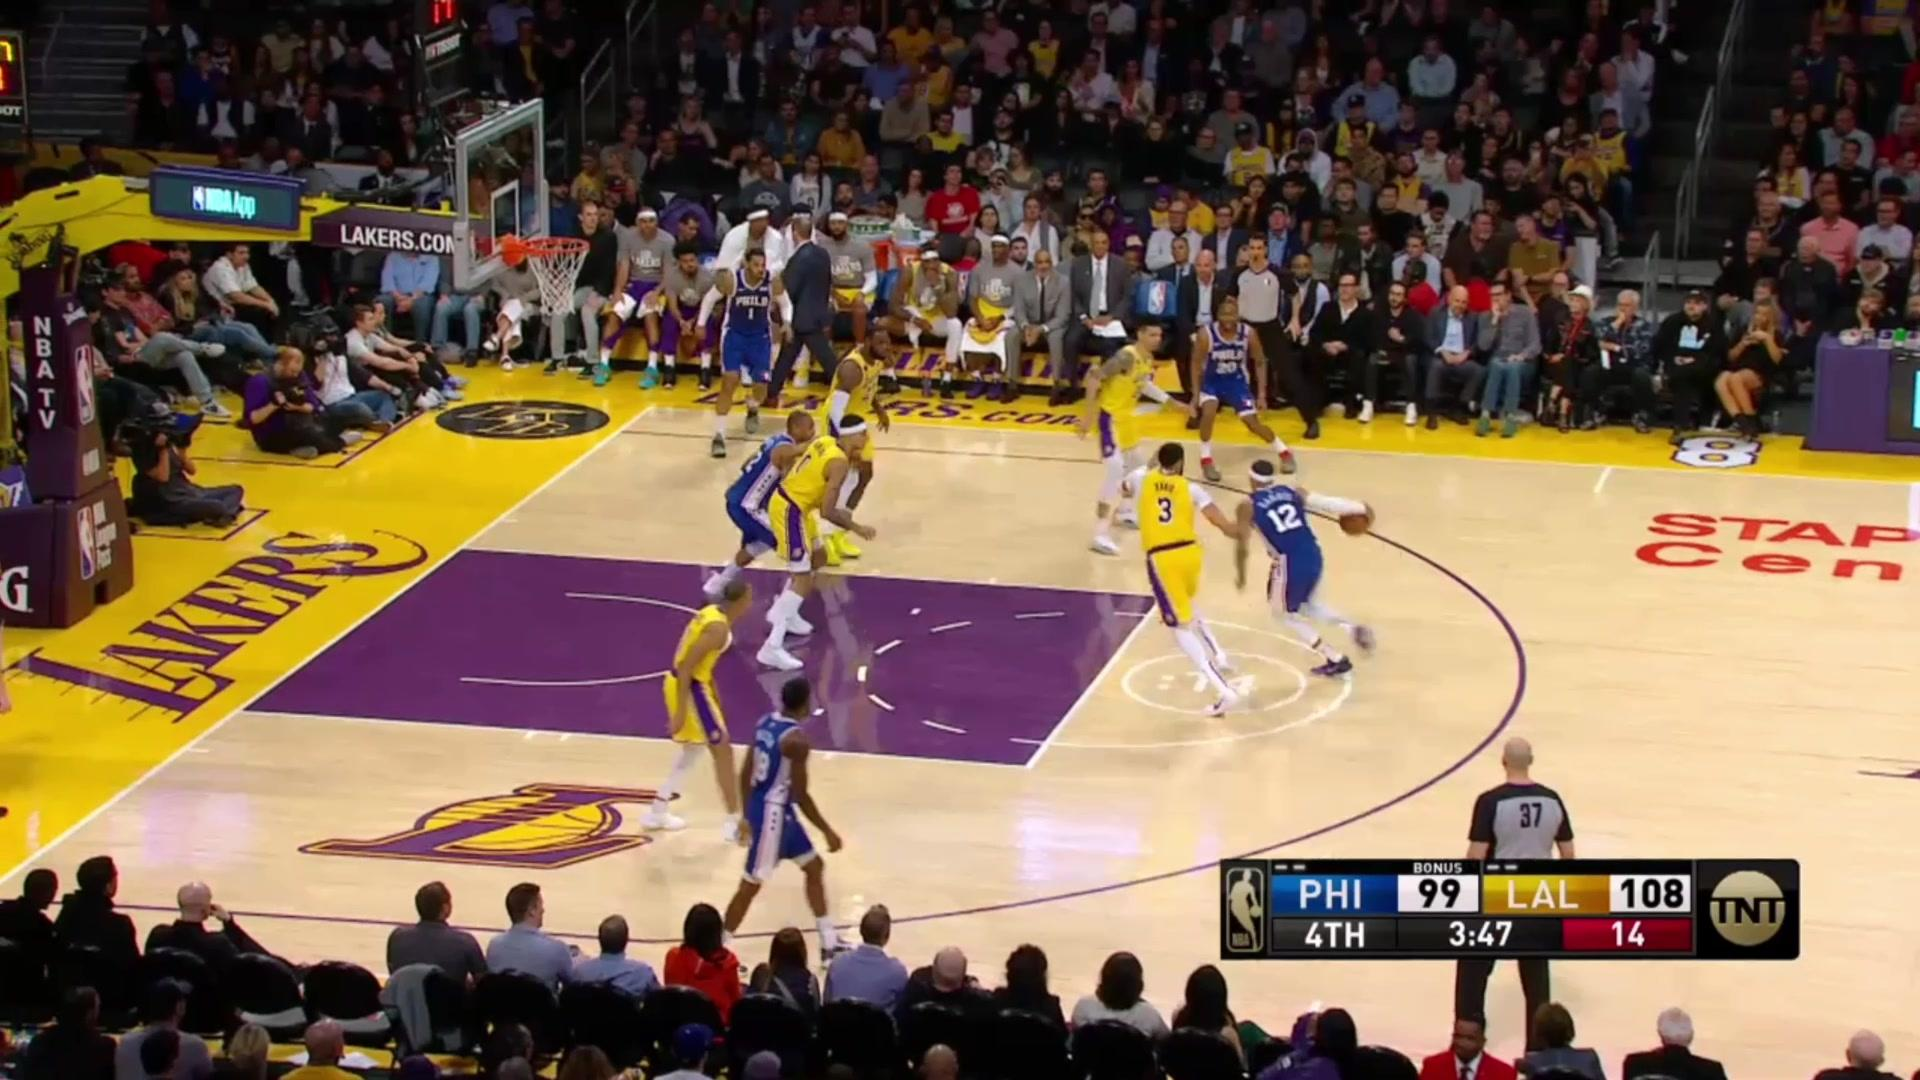no_foul: (1129, 429, 1346, 708)
